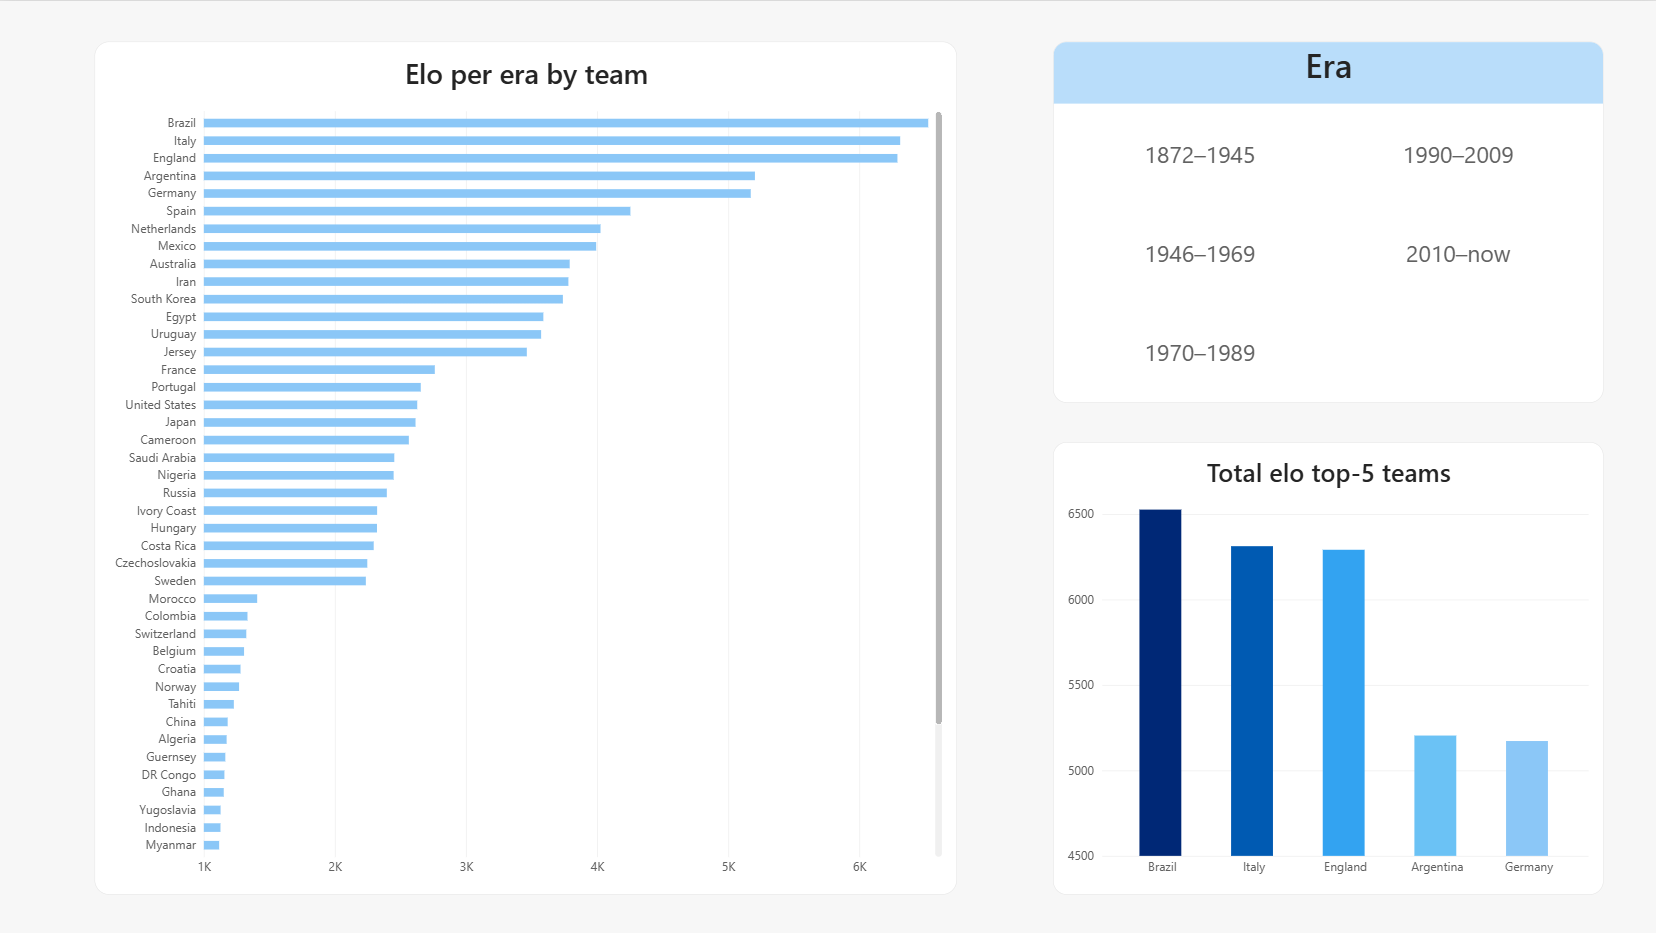

What the dashboard file says about the page in this screenshot:
{"tool":"powerbi","page":{"name":"Elo info","canvas":[1920,1080],"ordinal":1},"visuals":[{"type":"barChart","fields":{"Category":["elo_by_era.team"],"Y":["Sum(elo_by_era.points)"]},"box":[109.5,46.9,999.4,989],"z":0},{"type":"slicer","title":"Era","fields":{"Values":["elo_by_era.era"]},"box":[1220.1,46.9,637.9,418.9],"z":1},{"type":"columnChart","title":"Total elo top-5 teams","fields":{"Category":["elo_by_era.team"],"Y":["Sum(elo_by_era.points)"]},"box":[1220.1,511,637.9,524.9],"z":2}]}

Visuals, with their boxes in screenshot pixels (x1, y1, x2, y2), scaled from the page's 1920x1080 canvas onto the 1656x933 screenshot:
barChart - elo_by_era.team x Sum(elo_by_era.points): 94 41 956 895
"Era" slicer: 1052 41 1603 402
"Total elo top-5 teams" columnChart: 1052 441 1603 895
